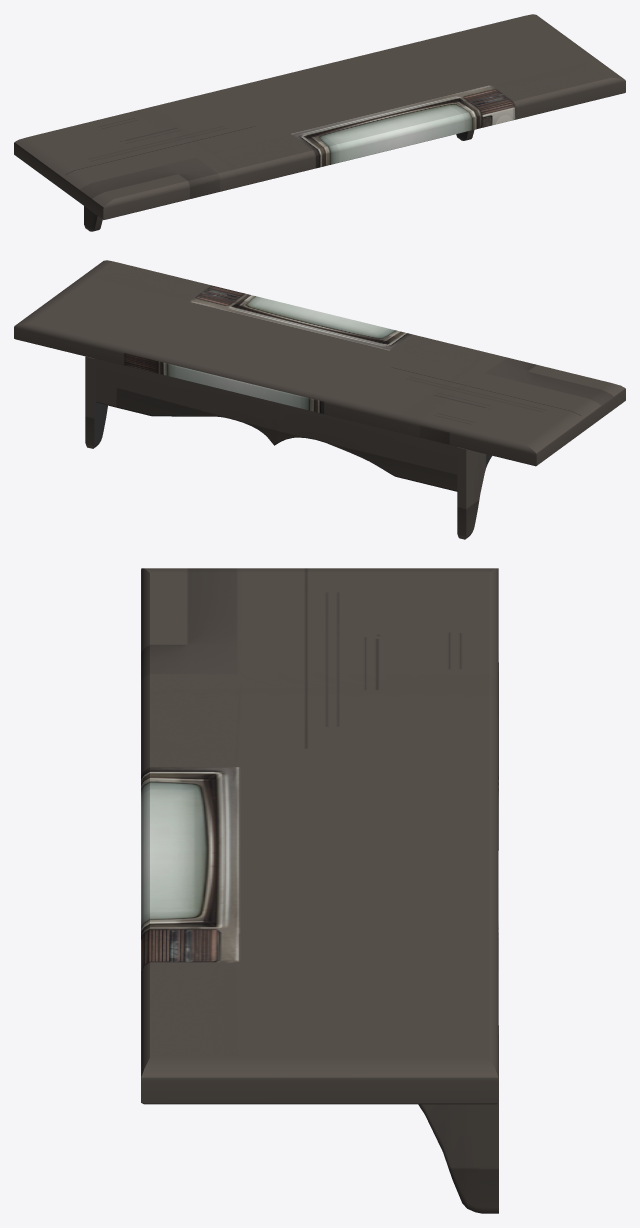
File: Kasey_Shelf.fbx
The picture shows the model from 3 angles, top to bottom: view 1: azimuth 30°, elevation 25°; view 2: azimuth 150°, elevation 25°; view 3: azimuth 270°, elevation 25°; orthographic projection. The views are drawn at different scales.
Visible parts, largest first — view 1: pCube5; view 2: pCube5; view 3: pCube5.
Part boxes in pixels (box(x1,y1,x2,y2)): pCube5: box(14, 14, 625, 231); pCube5: box(14, 260, 625, 539); pCube5: box(141, 568, 498, 1213).
Size of the model in its own units: 8.71 by 1.71 by 2.58.
